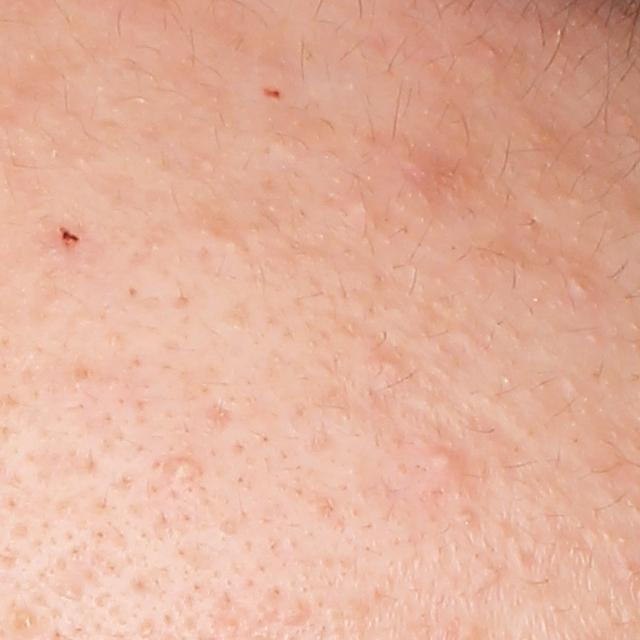atrophic_scar: (203, 399, 238, 428)
comedo: (165, 448, 205, 482), (365, 356, 402, 378), (18, 607, 40, 633), (221, 236, 242, 255)
